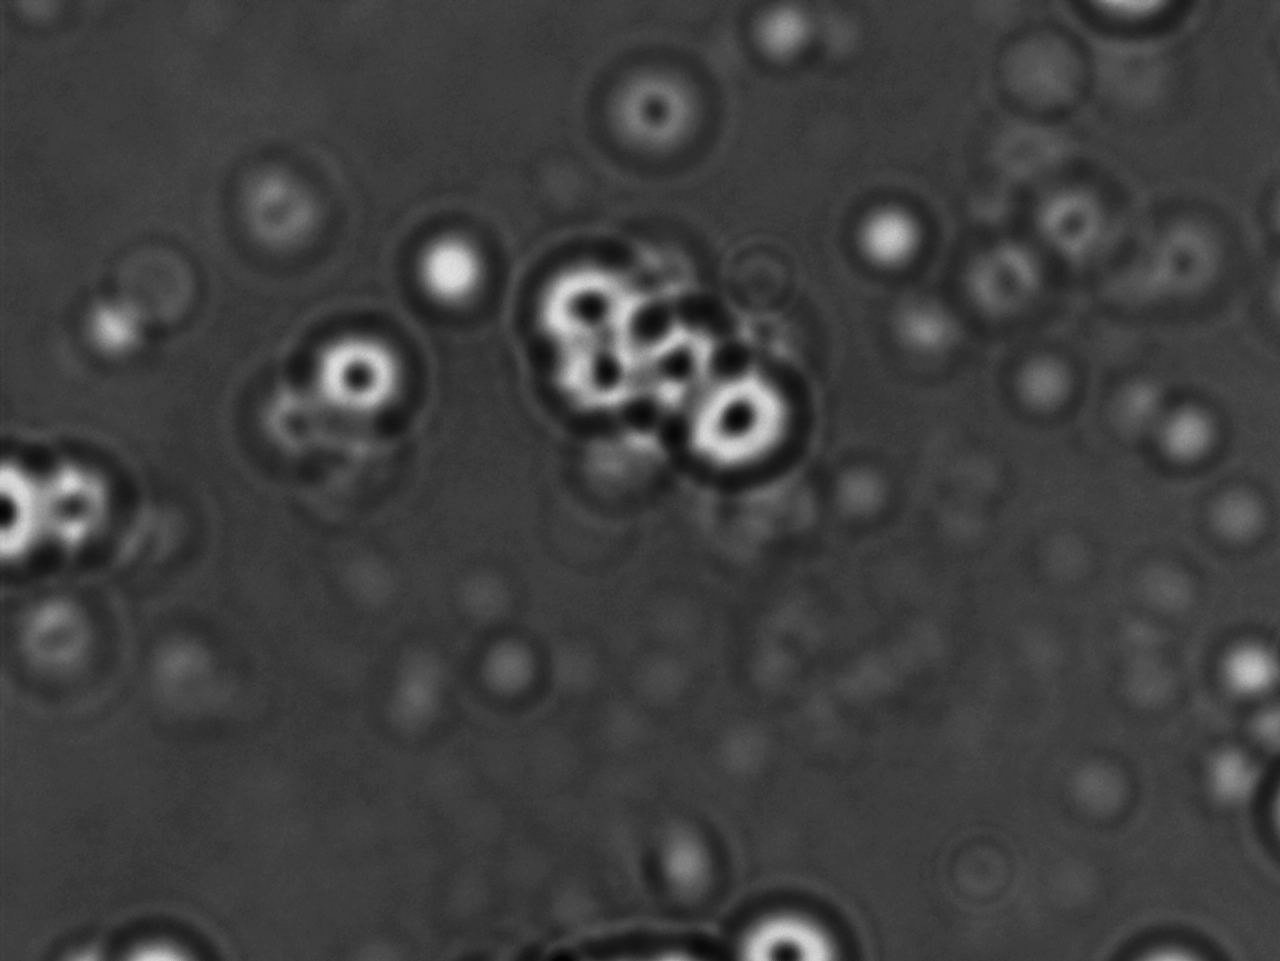depth:24: (518, 227, 657, 365), (295, 311, 432, 442), (685, 355, 817, 485), (542, 309, 670, 440)
